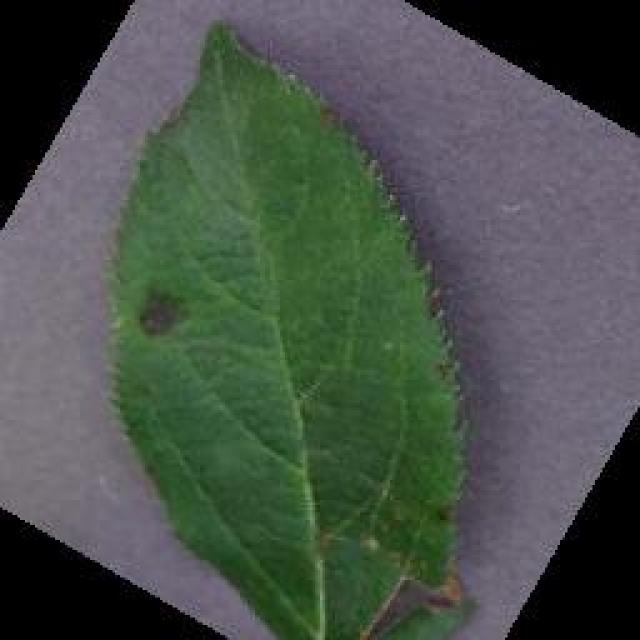apple scab disease: (100, 15, 478, 637)
